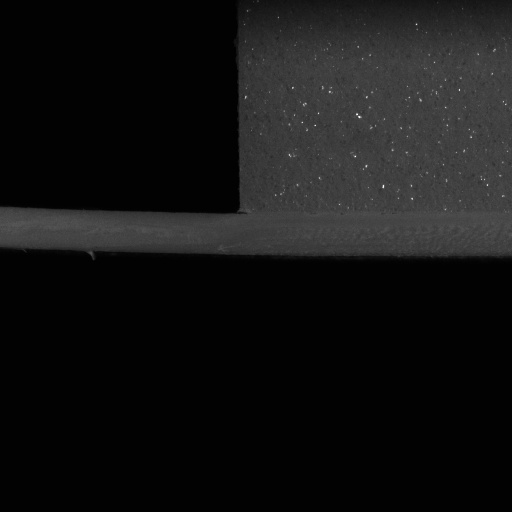changdai: (0, 205, 241, 259)
